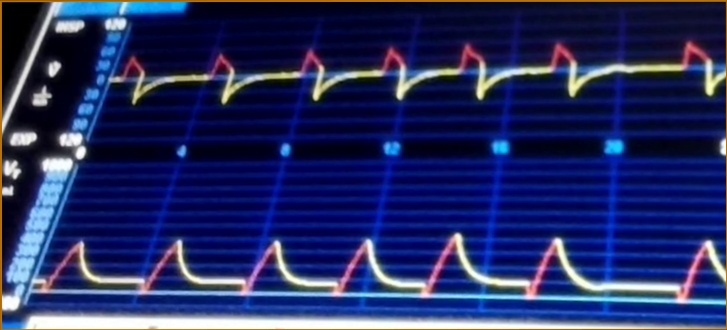Flow: (120, 31, 727, 132)
Leakage Volume: (34, 227, 727, 312)
